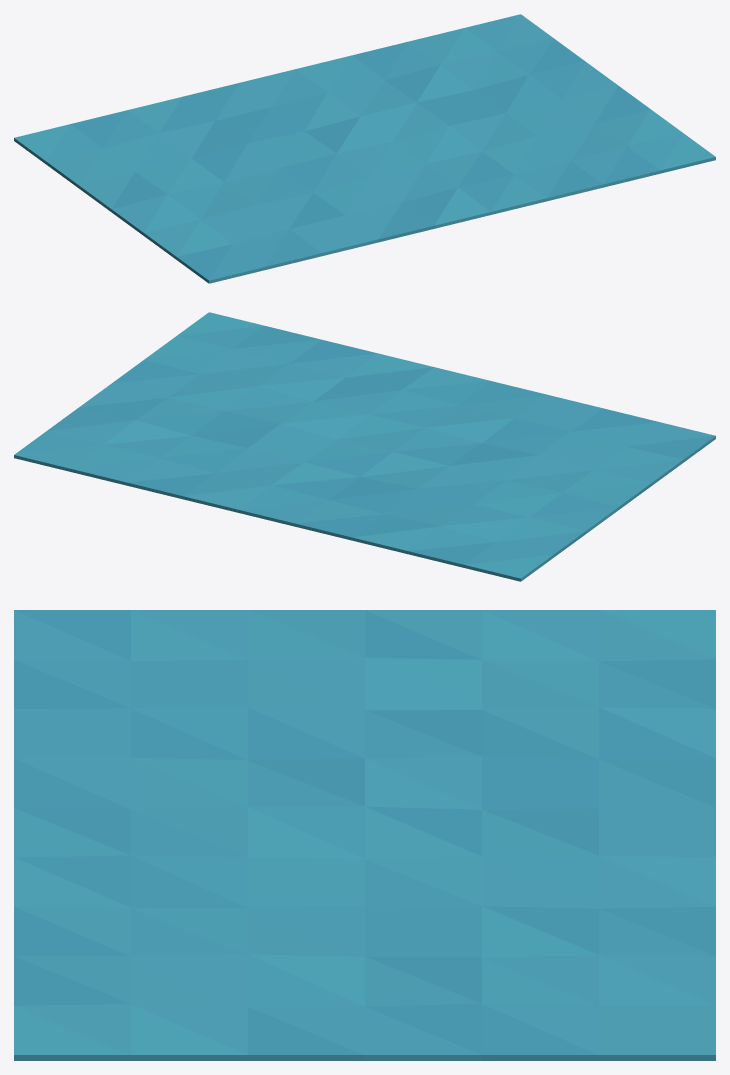
3 renders of one model, top to bottom at view 1: azimuth 30°, elevation 25°; view 2: azimuth 150°, elevation 25°; view 3: azimuth 270°, elevation 25°, orthographic. The views are drawn at different scales.
Parts seen in each view (by area): view 1: 独立海面.001; view 2: 独立海面.001; view 3: 独立海面.001.
Boxes of the visible parts, x1=… form: 独立海面.001: x1=14, y1=14, x2=715, y2=283; 独立海面.001: x1=14, y1=312, x2=715, y2=581; 独立海面.001: x1=14, y1=610, x2=715, y2=1060.
Bounding box in the file's own units: 3 × 0.03 × 2.
